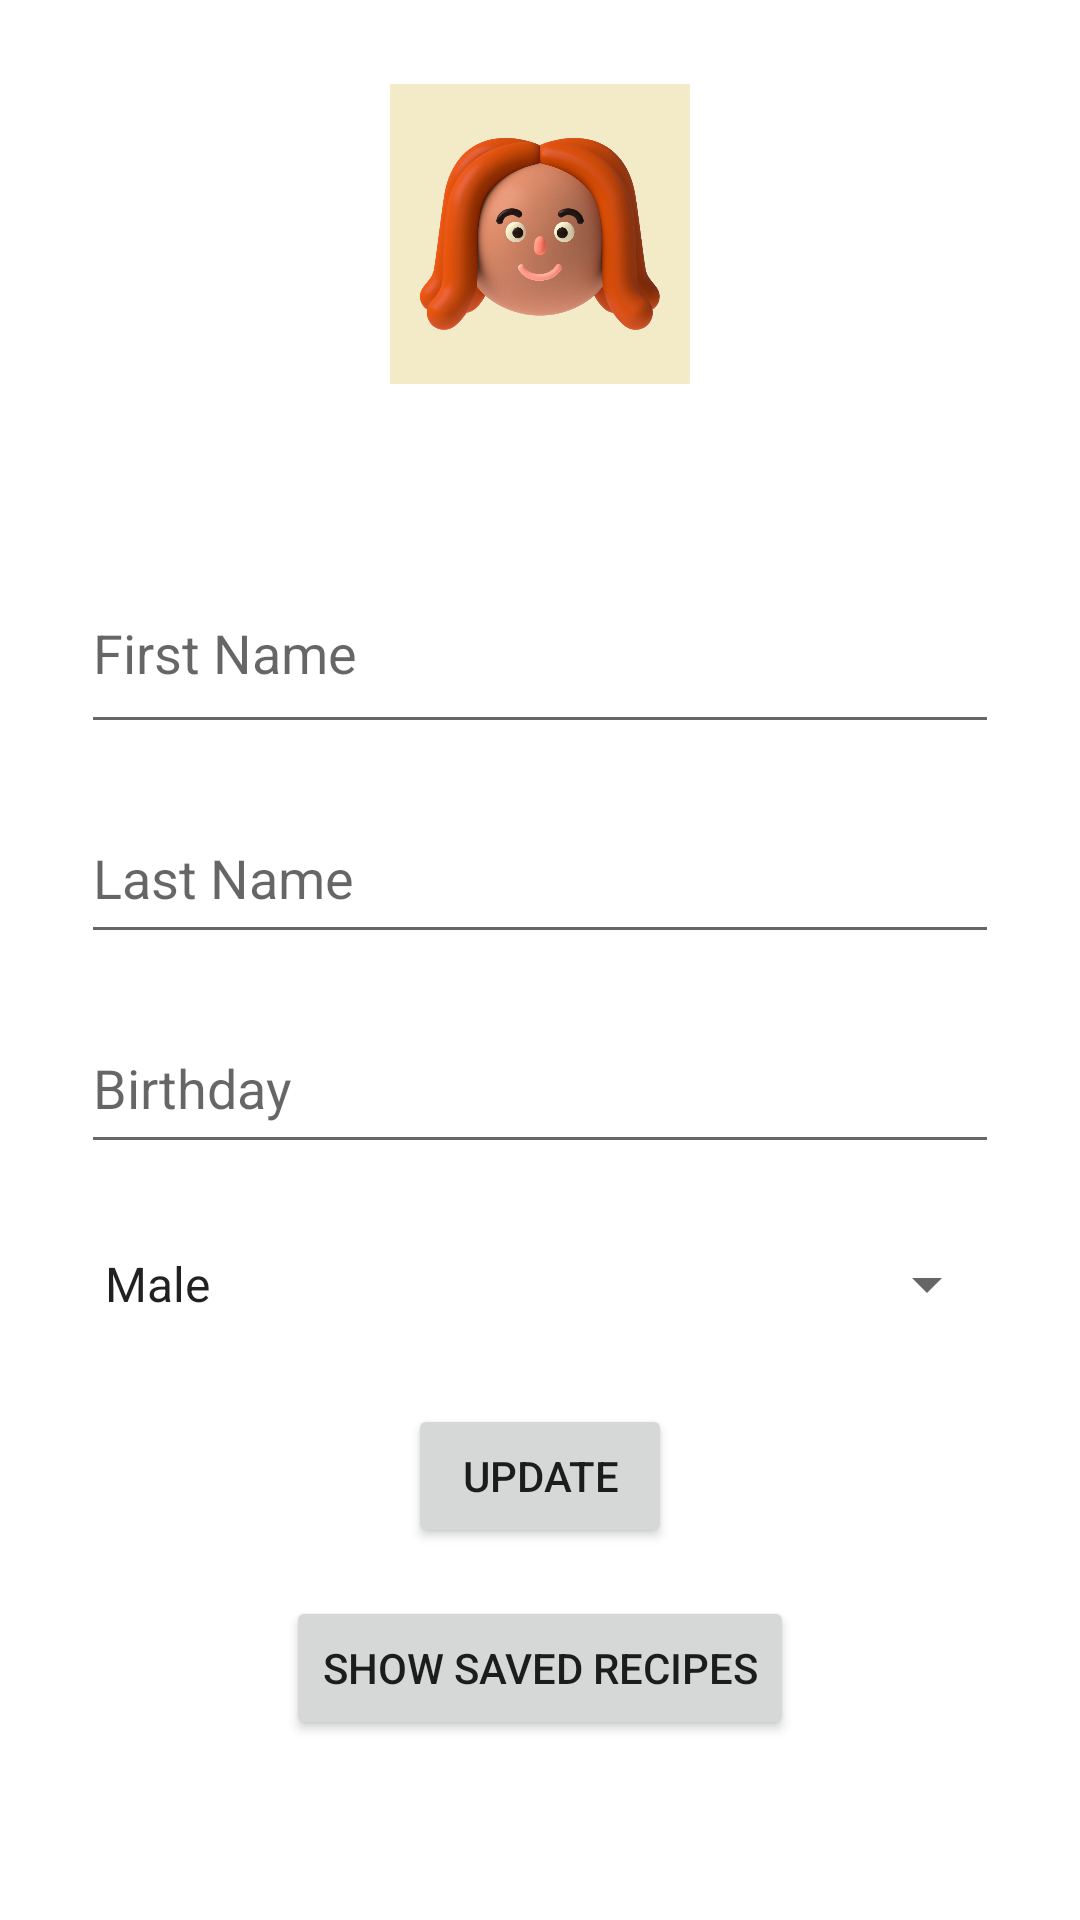

Where to tap for icons on this 1080px x 1920px app screen, as (x=x, y=y):
profile: (x=540, y=234)
